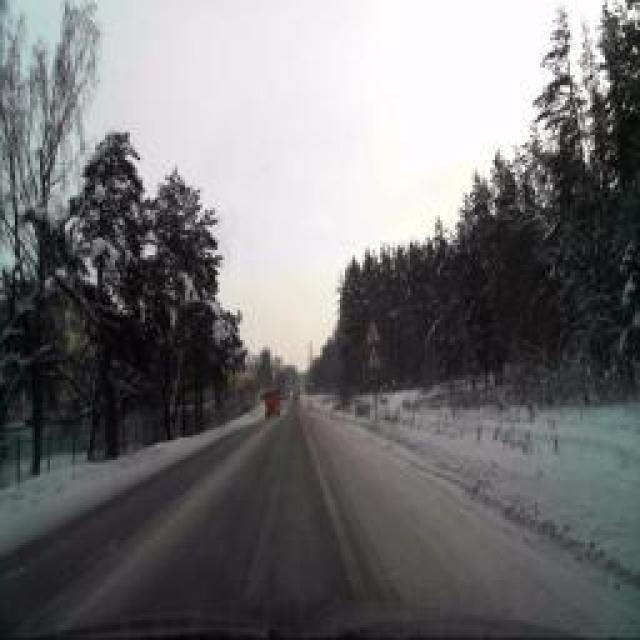sign: (364, 317, 381, 345), (365, 346, 383, 372)
